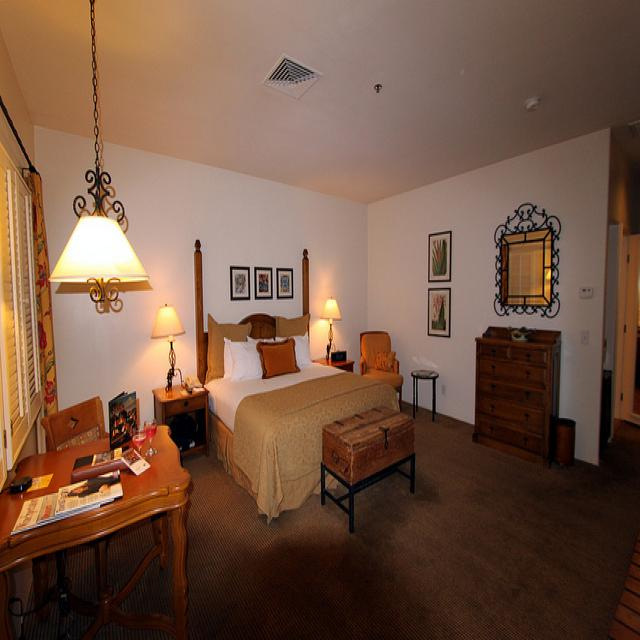chair: (359, 330, 404, 412), (44, 401, 103, 446)
dining table: (2, 424, 190, 607)
